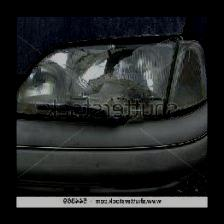head_lamp: (23, 27, 200, 132)
